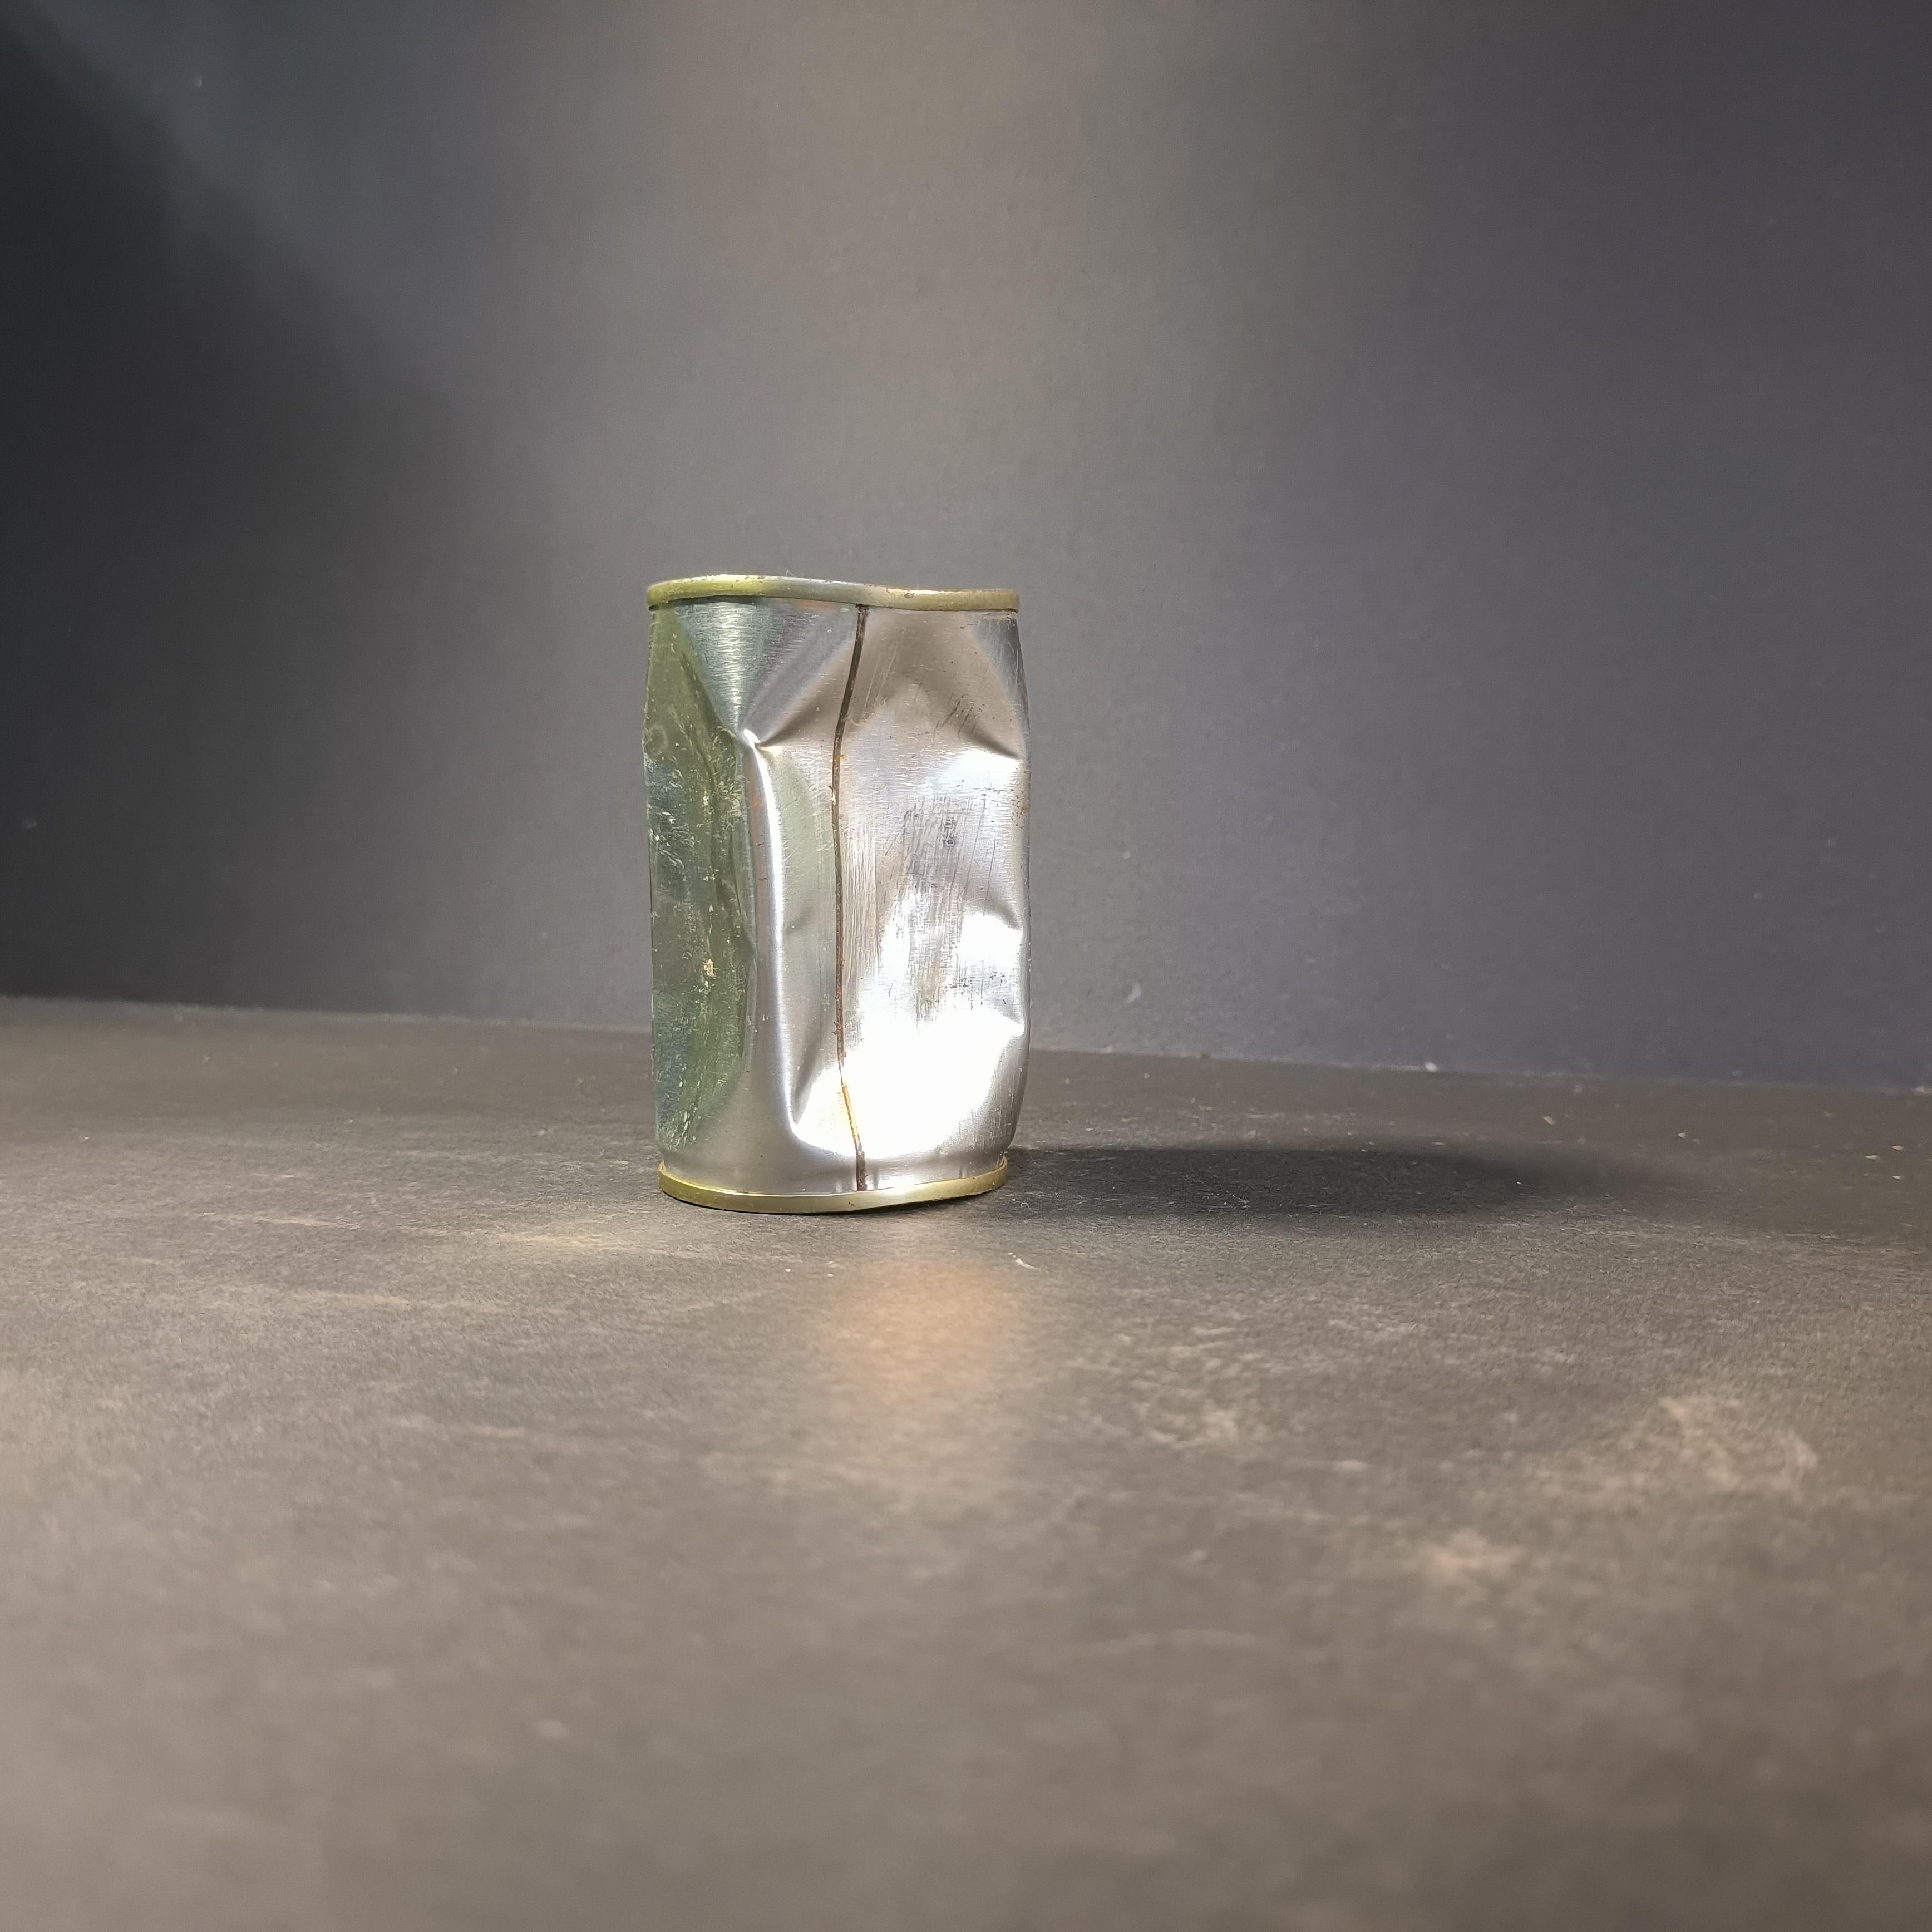Dented: (632, 563, 1065, 1224)
